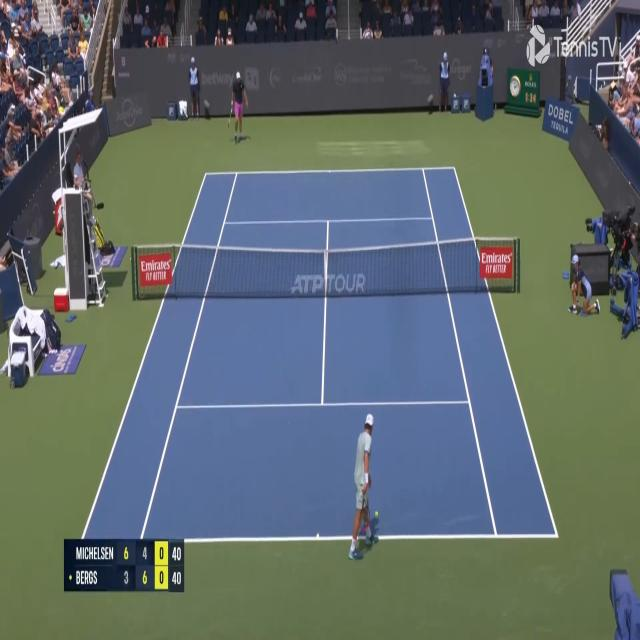tennis-player: (348, 410, 380, 564), (227, 69, 248, 144)
